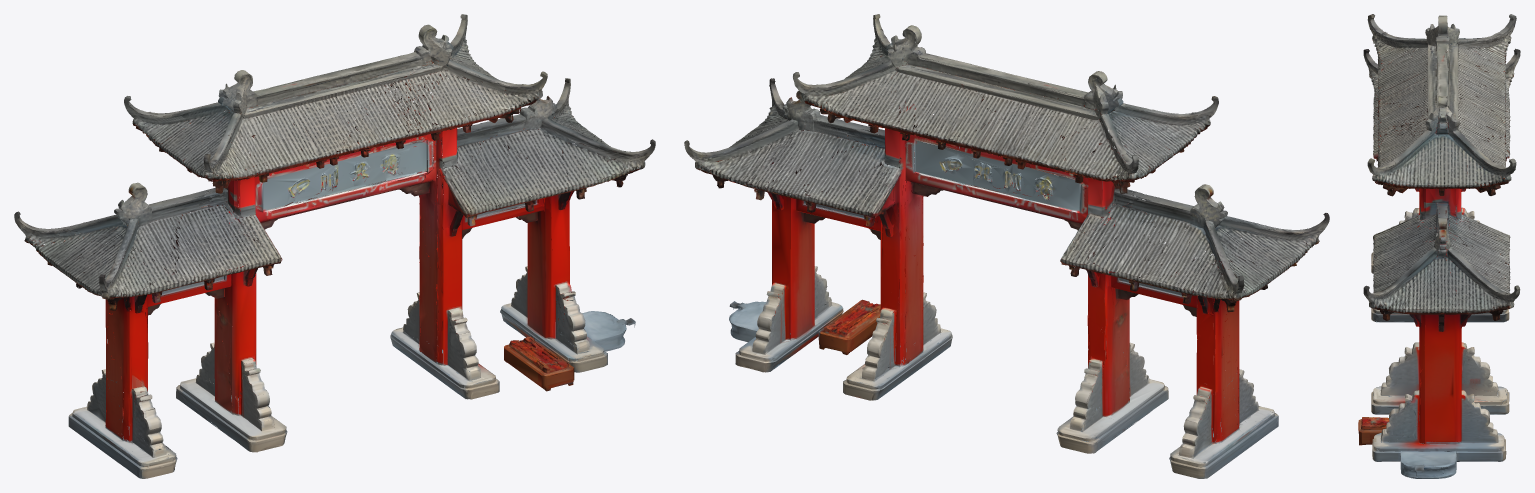
Rendered from scu_gate.glb.
3 renders of one model, left to right at view 1: azimuth 30°, elevation 25°; view 2: azimuth 150°, elevation 25°; view 3: azimuth 270°, elevation 25°, orthographic. The views are drawn at different scales.
Parts seen in each view (by area): view 1: node_0; view 2: node_0; view 3: node_0.
Boxes of the visible parts, x1,y1,x2,y2 form: node_0: (14,14,655,478); node_0: (684,14,1329,478); node_0: (1358,14,1520,478).
Size of the model in its own units: 1.04 by 0.6152 by 0.2945.
1 material, 1 textured.
